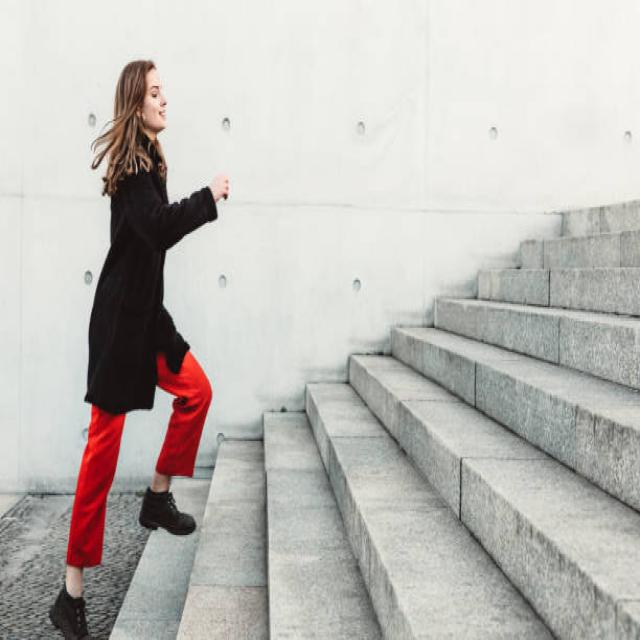stand: (75, 36, 198, 597)
